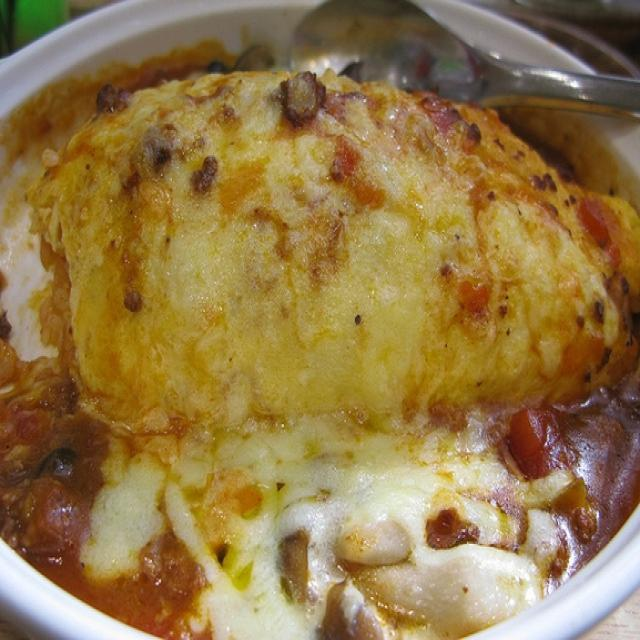米饭主食: (60, 87, 556, 575)
